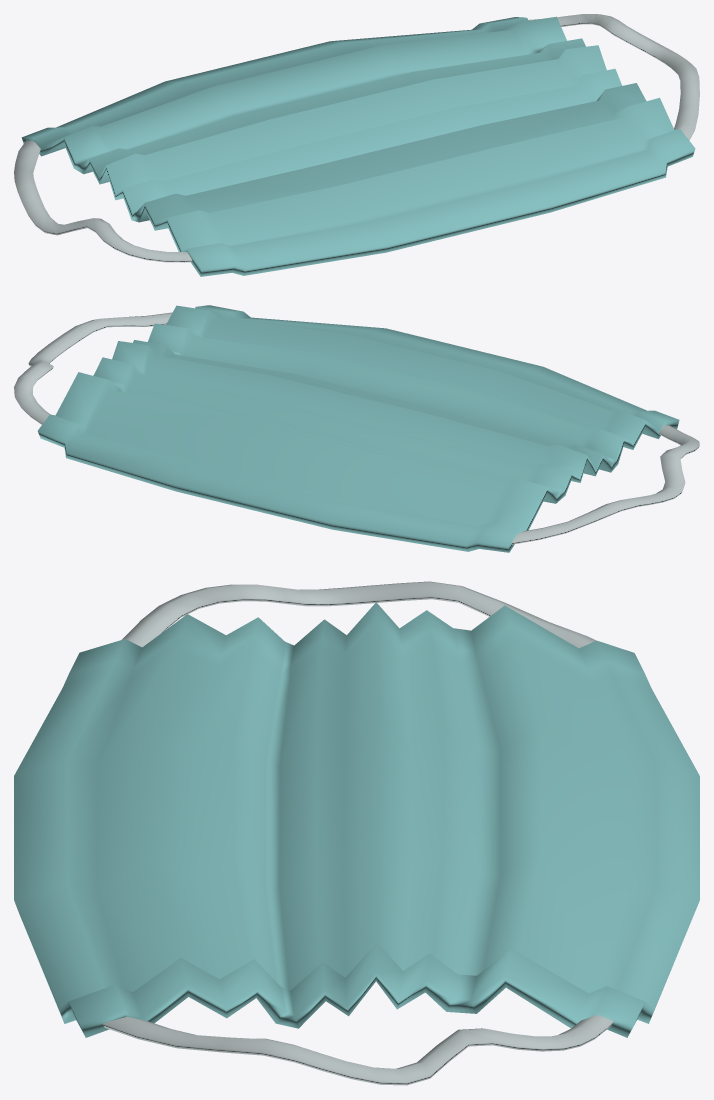
The model's file is SM_Mask.fbx.
3 renders of one model, top to bottom at view 1: azimuth 30°, elevation 25°; view 2: azimuth 150°, elevation 25°; view 3: azimuth 270°, elevation 25°, orthographic. The views are drawn at different scales.
Visible parts, largest first — view 1: Mask; view 2: Mask; view 3: Mask.
Part boxes in pixels (left/top/right/bottom): Mask: left=14, top=14, right=699, bottom=276; Mask: left=14, top=305, right=699, bottom=552; Mask: left=14, top=581, right=699, bottom=1085.
Bounding box in the file's own units: 43.66 × 3.46 × 25.65.
